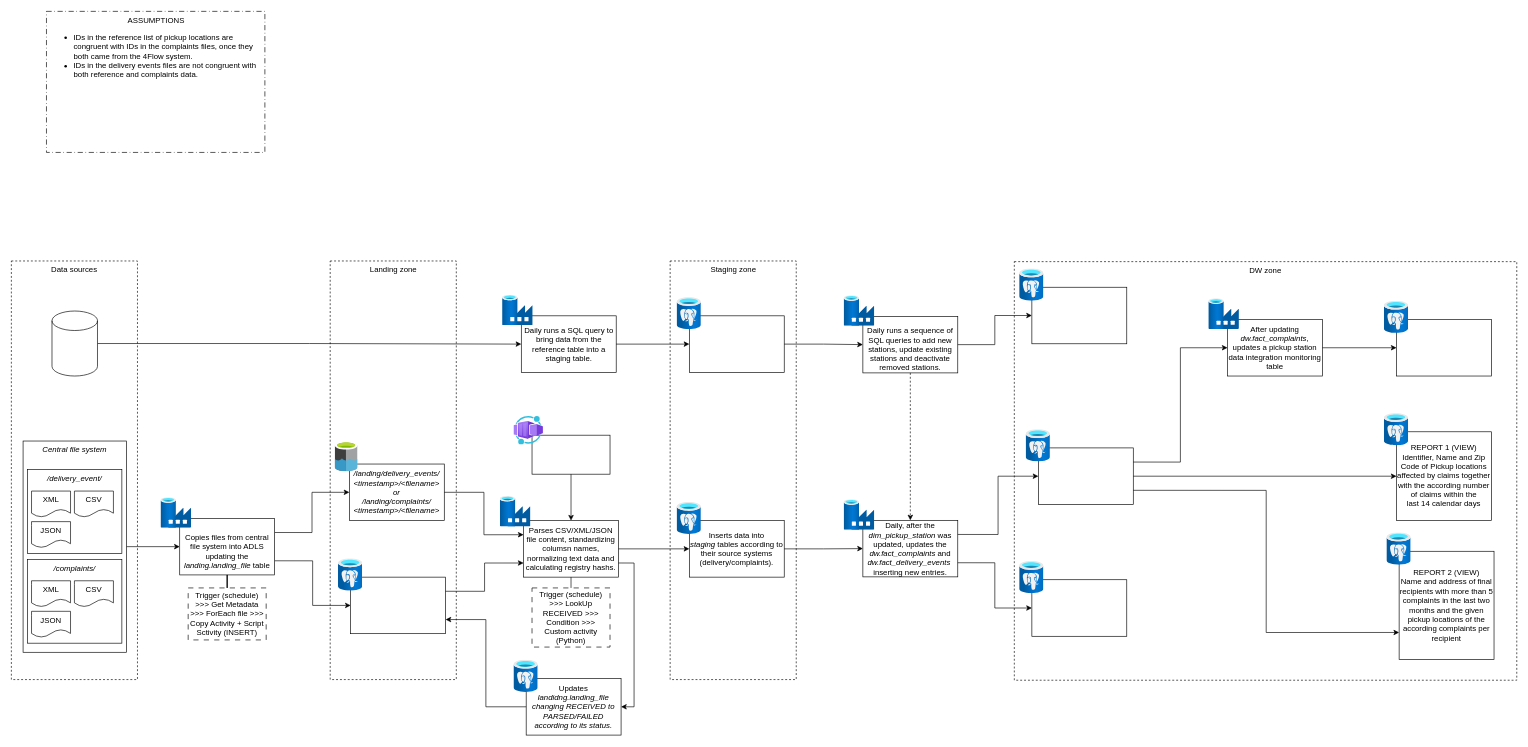
Image size: 1528x747. Some labels were removed from this diagram. The centre of each missing label's shape, as x and y in pixels:
"Inserts data into landidng.landing_file" goes at (x=398, y=605).
"Inserts data into staging . stg_pickup_station" goes at (x=736, y=343).
"List Pickup Stations" goes at (x=74, y=343).
"Python parser in a container or function" goes at (x=570, y=454).
"Updates data into dw .dim _pickup_station" goes at (x=1079, y=315).
"Updates data into dw .fact_complaints" goes at (x=1085, y=475).
"Updates data into dw .fact_delivery_events" goes at (x=1079, y=607).
"Updates data into dw .monitoring_complaints" goes at (x=1443, y=347).
